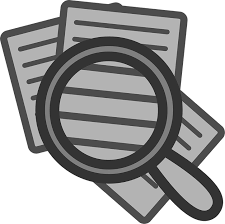searchIcon: (34, 33, 224, 218)
